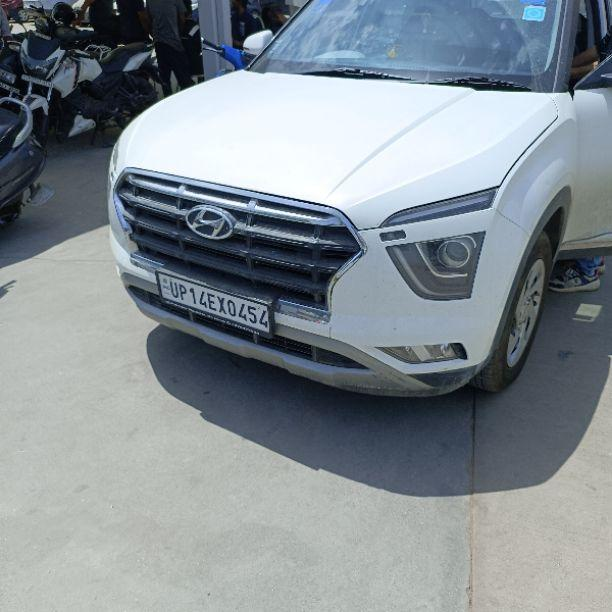license_plate: (154, 268, 275, 339)
